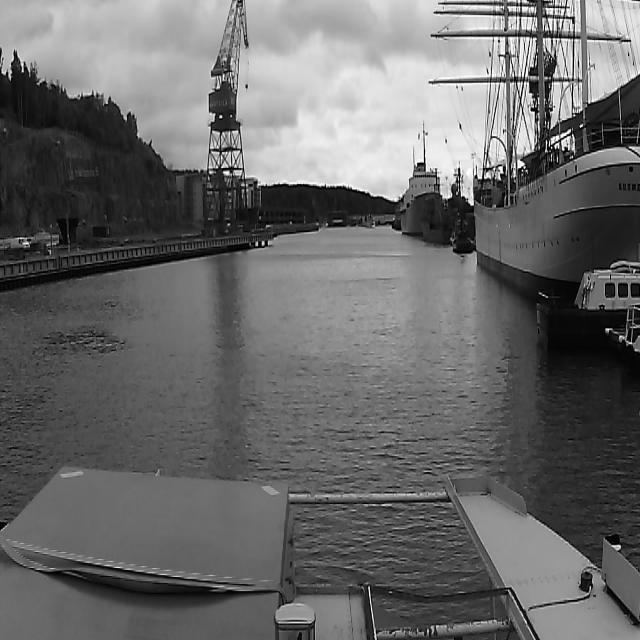ship: (428, 4, 636, 249), (545, 260, 639, 353), (400, 164, 444, 238), (422, 170, 443, 242), (450, 218, 474, 255)
